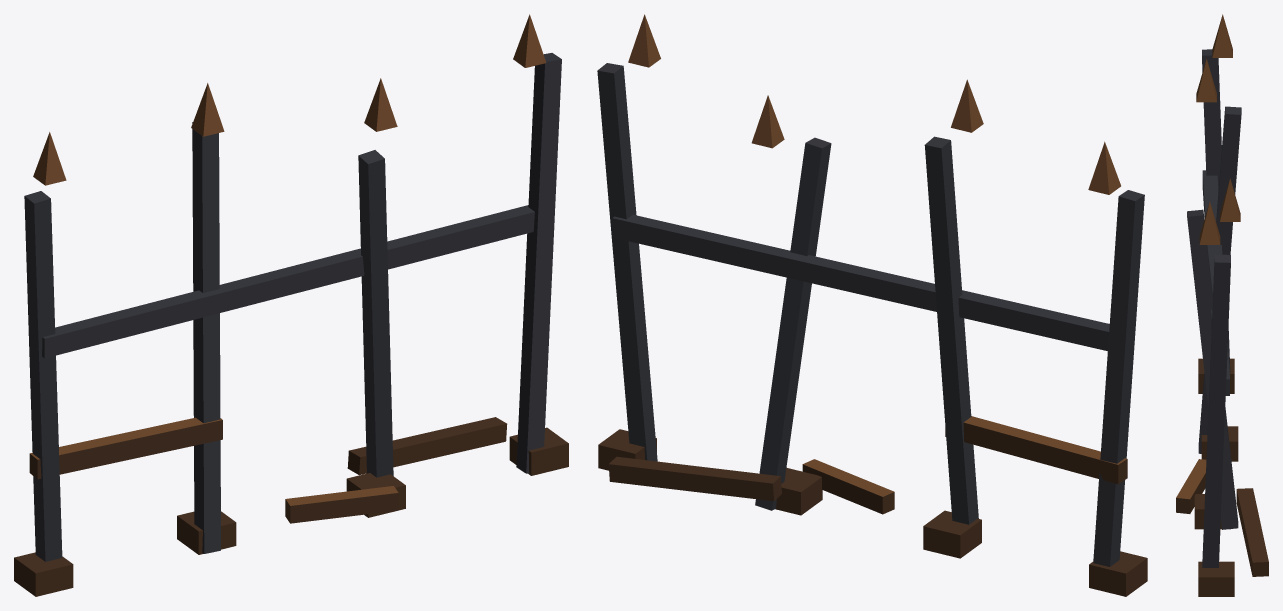
The model's file is iron-fence.glb.
3 views of the same model, side by side, from view 1: azimuth 30°, elevation 25°; view 2: azimuth 150°, elevation 25°; view 3: azimuth 270°, elevation 25° (orthographic). The views are drawn at different scales.
Visible parts, largest first — view 1: IronFence; view 2: IronFence; view 3: IronFence.
Part boxes in pixels (<box>): IronFence: <box>14,14,568,596</box>; IronFence: <box>597,14,1147,596</box>; IronFence: <box>1176,14,1268,596</box>.
Size of the model in its own units: 1.43 by 1.19 by 0.2553.
Materials: 1 (1 with a texture image).
